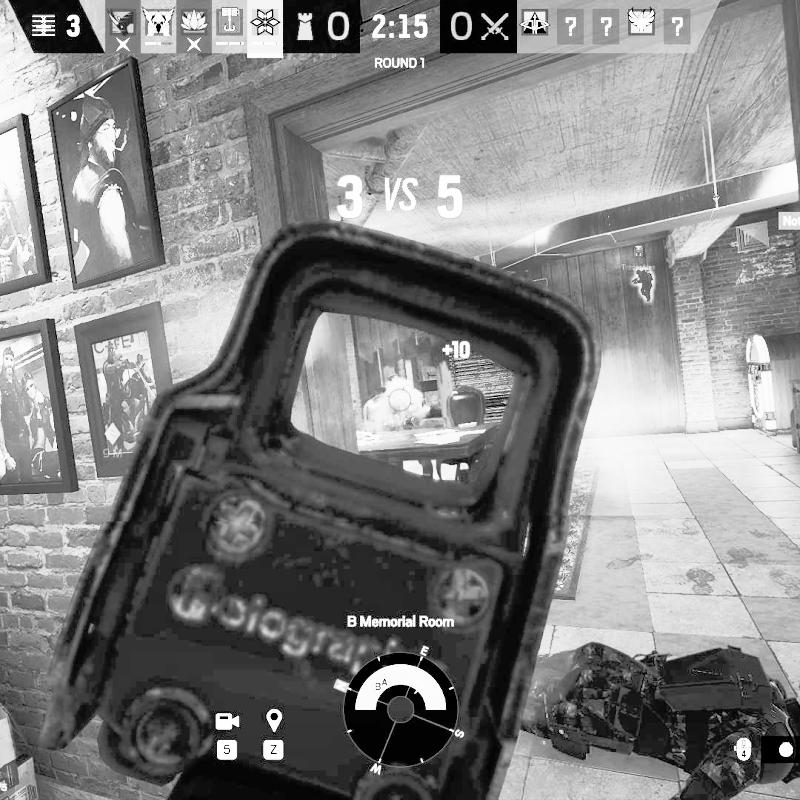Friend_label: (620, 242, 658, 273)
